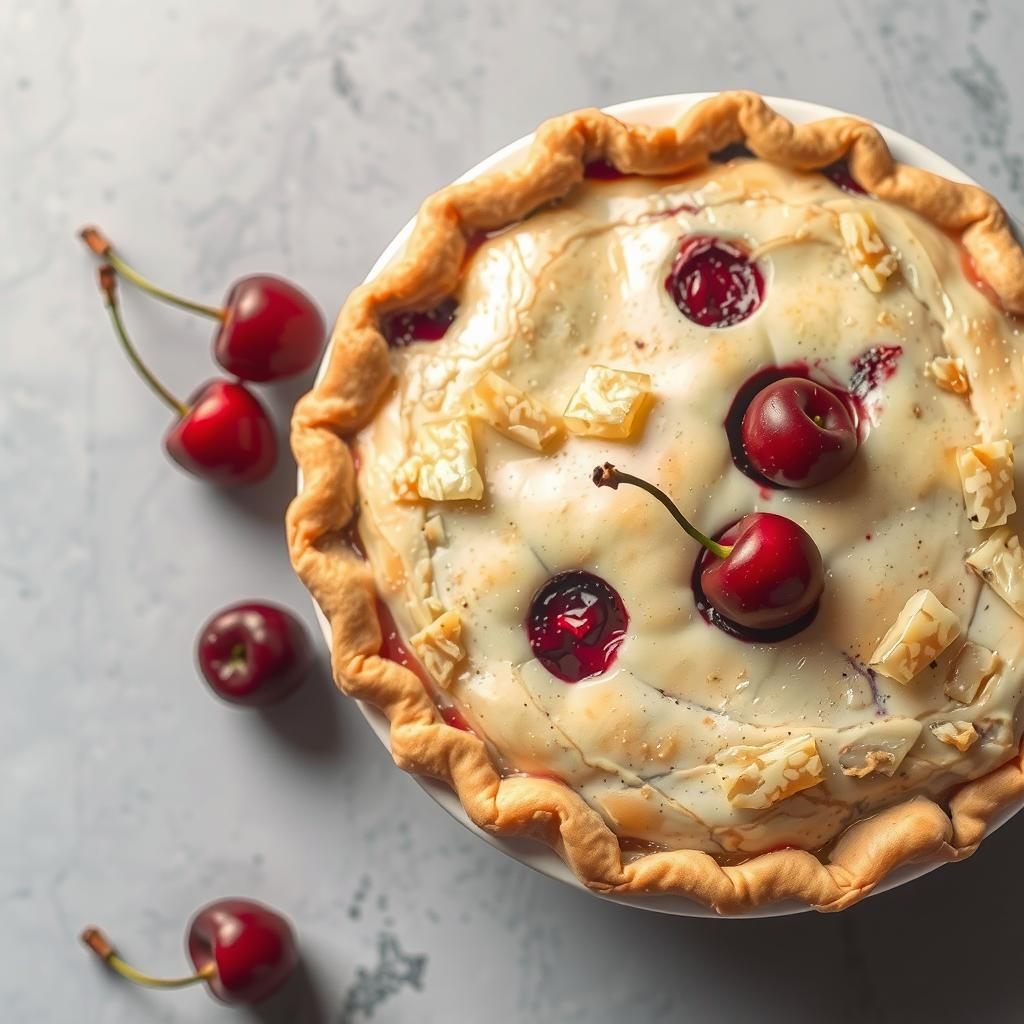pie: (283, 86, 1024, 926)
